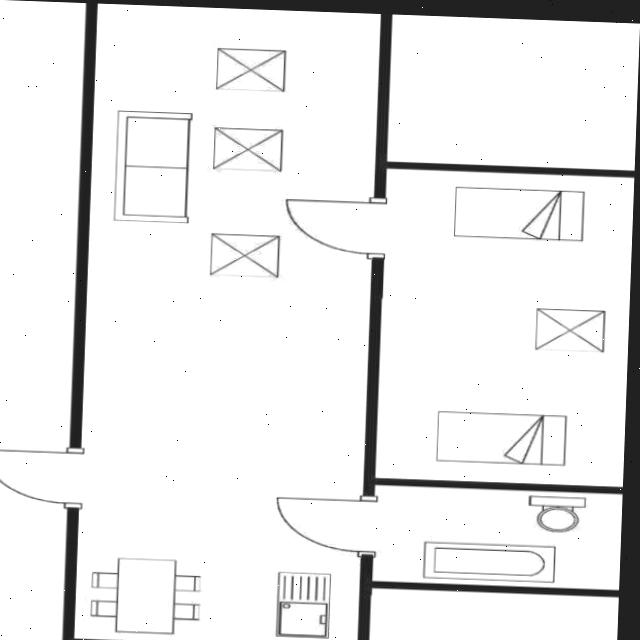room: (75, 4, 380, 640), (374, 169, 634, 487), (372, 485, 623, 590)
